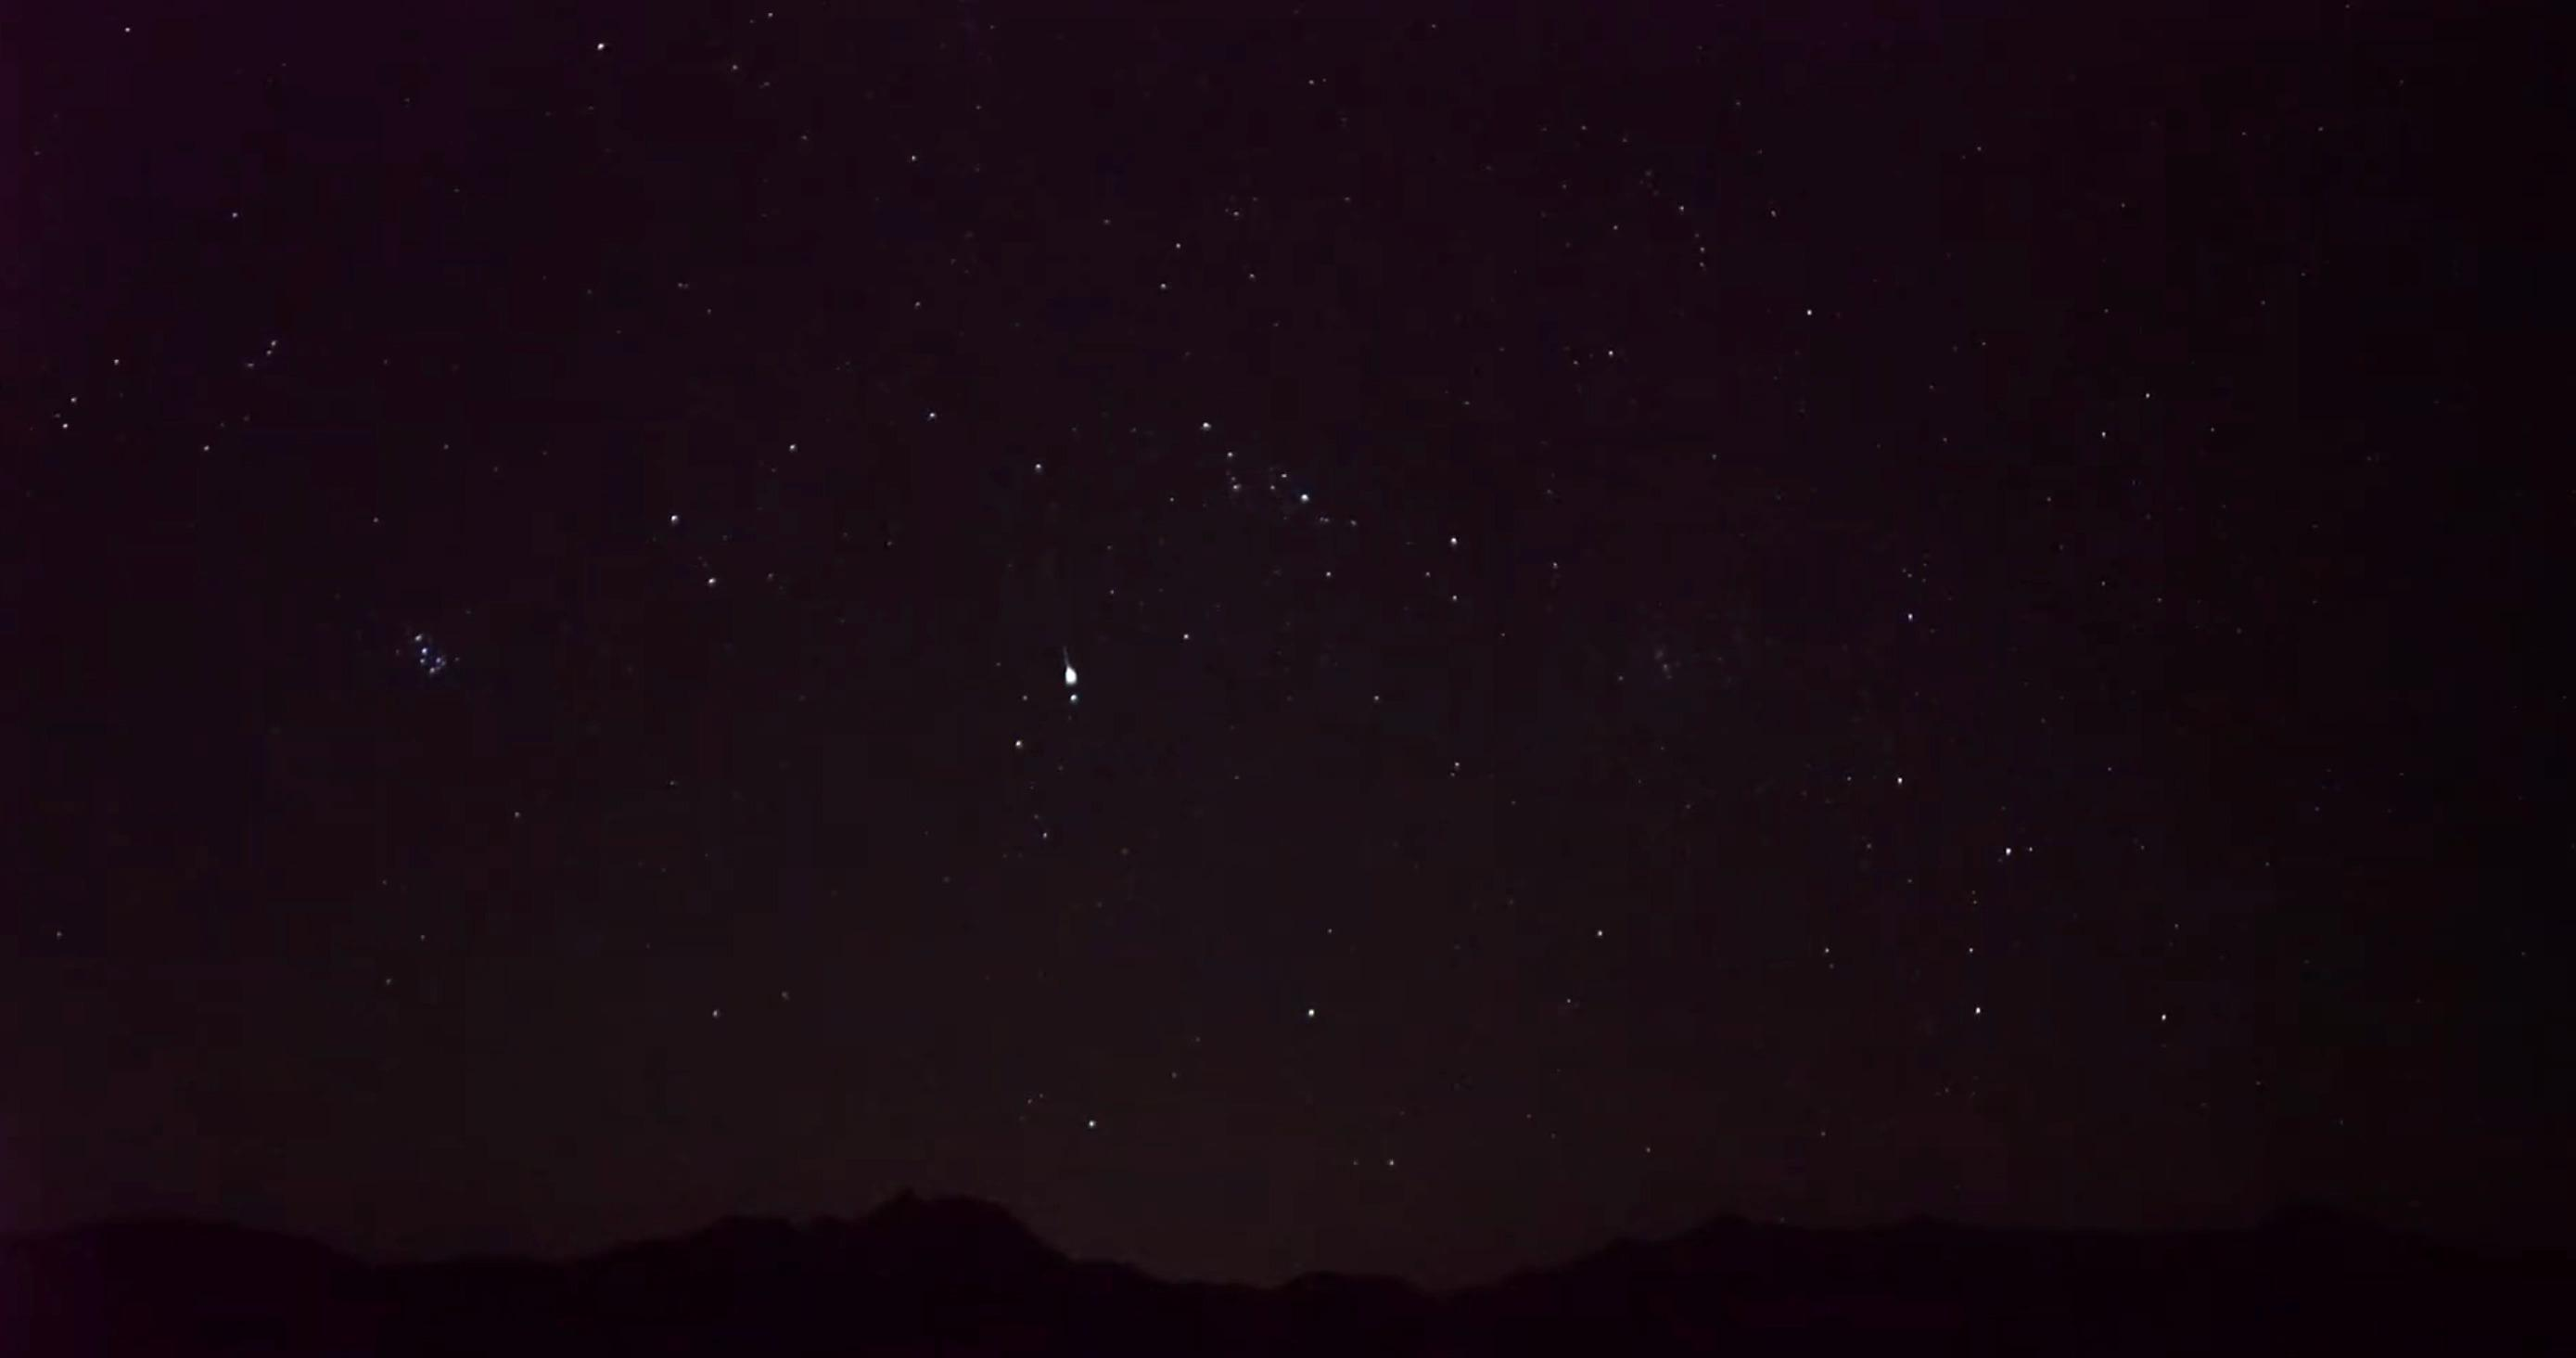meteorite: (1017, 630, 1140, 716)
